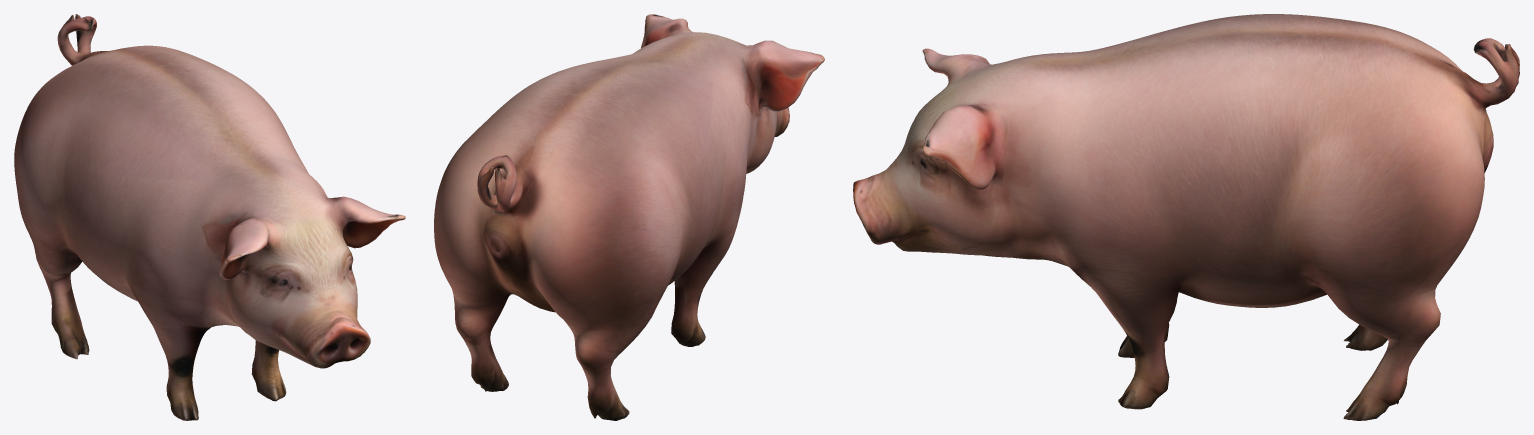
Rendered from Pig.fbx.
3 views of the same model, side by side, from view 1: azimuth 30°, elevation 25°; view 2: azimuth 150°, elevation 25°; view 3: azimuth 270°, elevation 25° (orthographic). The views are drawn at different scales.
Visible parts, largest first — view 1: Mesh1_Mesh1.049; view 2: Mesh1_Mesh1.049; view 3: Mesh1_Mesh1.049.
Part boxes in pixels (<box>): Mesh1_Mesh1.049: <box>14,14,405,420</box>; Mesh1_Mesh1.049: <box>434,14,824,420</box>; Mesh1_Mesh1.049: <box>853,14,1519,420</box>.
Size of the model in its own units: 72.13 by 90 by 156.
1 material, 1 textured.
